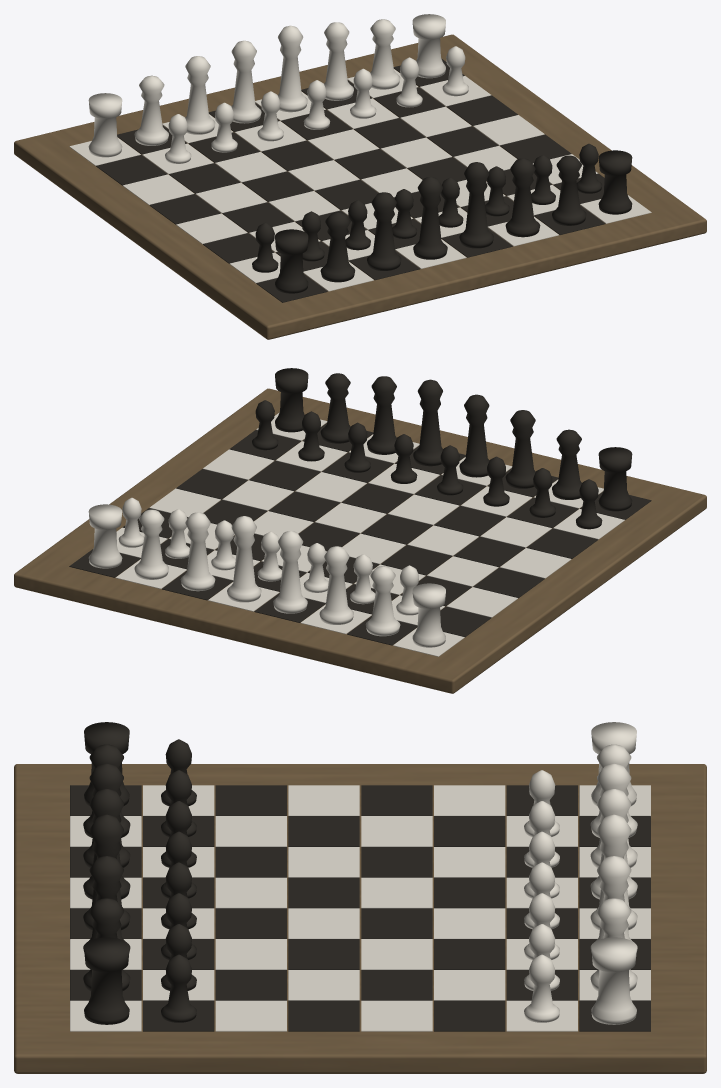
The model's file is static.glb.
3 views of the same model, one above another, from view 1: azimuth 30°, elevation 25°; view 2: azimuth 150°, elevation 25°; view 3: azimuth 270°, elevation 25° (orthographic). The views are drawn at different scales.
Visible parts, largest first — view 1: Board, king -1 4, queen -1 3, king 1 4, rook -1 7, rook -1 0, rook 1 0, queen 1 3, bishop -1 5, bishop -1 2, rook 1 7, bishop 1 5 (+64 smaller); view 2: Board, king 1 4, queen 1 3, king -1 4, rook 1 7, rook 1 0, rook -1 0, queen -1 3, bishop 1 5, bishop 1 2, rook -1 7, bishop -1 5 (+64 smaller); view 3: Board, rook -1 7, rook 1 7, Square 3 3, Square 3 4, Square 7 3, Square 7 4, Square 7 2, Square 7 5, Square 3 2, Square 3 5, Square 0 2 (+84 smaller).
Boxes of the visible parts, bbox=[...] form: Board: bbox=[14, 34, 706, 339]; king -1 4: bbox=[459, 162, 493, 248]; queen -1 3: bbox=[413, 177, 447, 259]; king 1 4: bbox=[277, 25, 307, 112]; rook -1 7: bbox=[598, 150, 632, 214]; rook -1 0: bbox=[275, 229, 308, 293]; rook 1 0: bbox=[88, 93, 122, 157]; queen 1 3: bbox=[231, 40, 261, 123]; bishop -1 5: bbox=[505, 158, 540, 237]; bishop -1 2: bbox=[367, 192, 401, 270]; rook 1 7: bbox=[412, 14, 445, 78]; bishop 1 5: bbox=[324, 22, 353, 100]; Board: bbox=[14, 388, 706, 693]; king 1 4: bbox=[227, 516, 261, 602]; queen 1 3: bbox=[273, 531, 307, 613]; king -1 4: bbox=[413, 379, 443, 466]; rook 1 7: bbox=[88, 504, 122, 568]; rook 1 0: bbox=[412, 583, 445, 647]; rook -1 0: bbox=[598, 447, 632, 511]; queen -1 3: bbox=[459, 394, 489, 477]; bishop 1 5: bbox=[180, 512, 215, 591]; bishop 1 2: bbox=[319, 546, 353, 624]; rook -1 7: bbox=[275, 368, 308, 432]; bishop -1 5: bbox=[367, 376, 396, 454]; Board: bbox=[14, 764, 706, 1073]; rook -1 7: bbox=[84, 937, 129, 1024]; rook 1 7: bbox=[591, 937, 636, 1024]; Square 3 3: bbox=[288, 877, 359, 908]; Square 3 4: bbox=[361, 877, 432, 908]; Square 7 3: bbox=[288, 1000, 359, 1031]; Square 7 4: bbox=[361, 1000, 432, 1031]; Square 7 2: bbox=[215, 1000, 286, 1031]; Square 7 5: bbox=[434, 1000, 505, 1031]; Square 3 2: bbox=[215, 877, 286, 908]; Square 3 5: bbox=[434, 877, 505, 908]; Square 0 2: bbox=[215, 785, 286, 815].
Size of the model in its own units: 1 by 0.205 by 1.
Materials: 96 (96 with a texture image).
